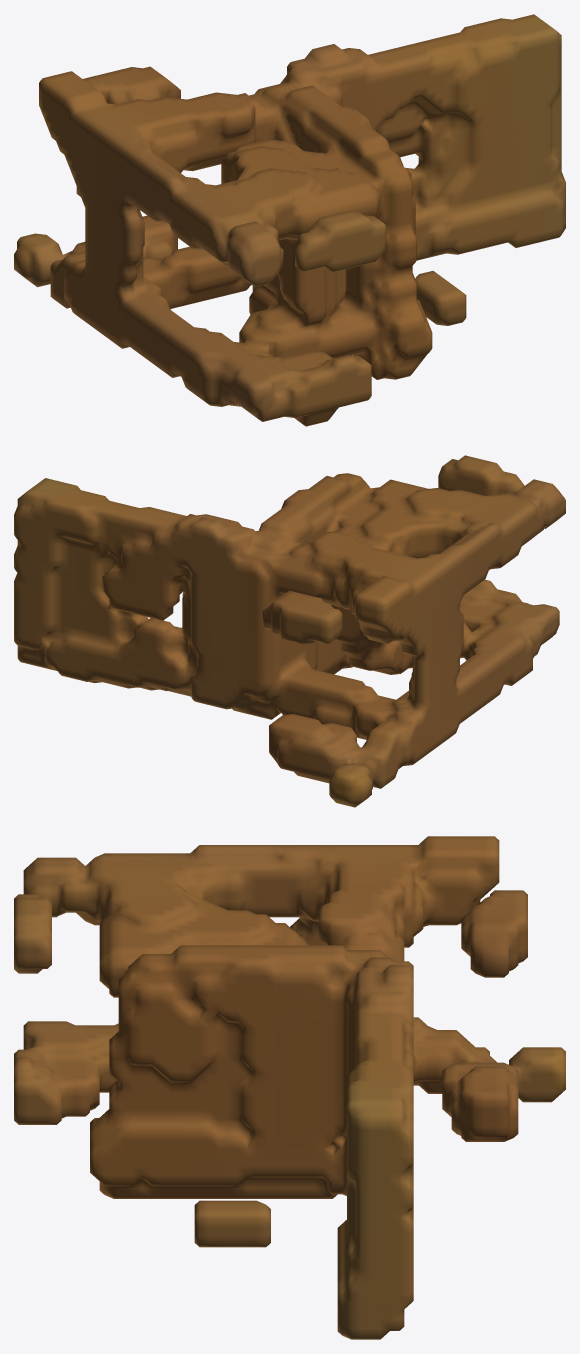
File: A beige wooden rocking chair with a curved back an.glb
3 views of the same model, one above another, from view 1: azimuth 30°, elevation 25°; view 2: azimuth 150°, elevation 25°; view 3: azimuth 270°, elevation 25° (orthographic). The views are drawn at different scales.
Parts seen in each view (by area): view 1: A beige wooden rocking chair with a curved back an; view 2: A beige wooden rocking chair with a curved back an; view 3: A beige wooden rocking chair with a curved back an.
Boxes of the visible parts, box(x1,y1,x2,y2) form: A beige wooden rocking chair with a curved back an: box(14, 14, 565, 426); A beige wooden rocking chair with a curved back an: box(14, 455, 565, 807); A beige wooden rocking chair with a curved back an: box(14, 836, 565, 1339).
Bounding box in the file's own units: 64 × 29 × 58.
